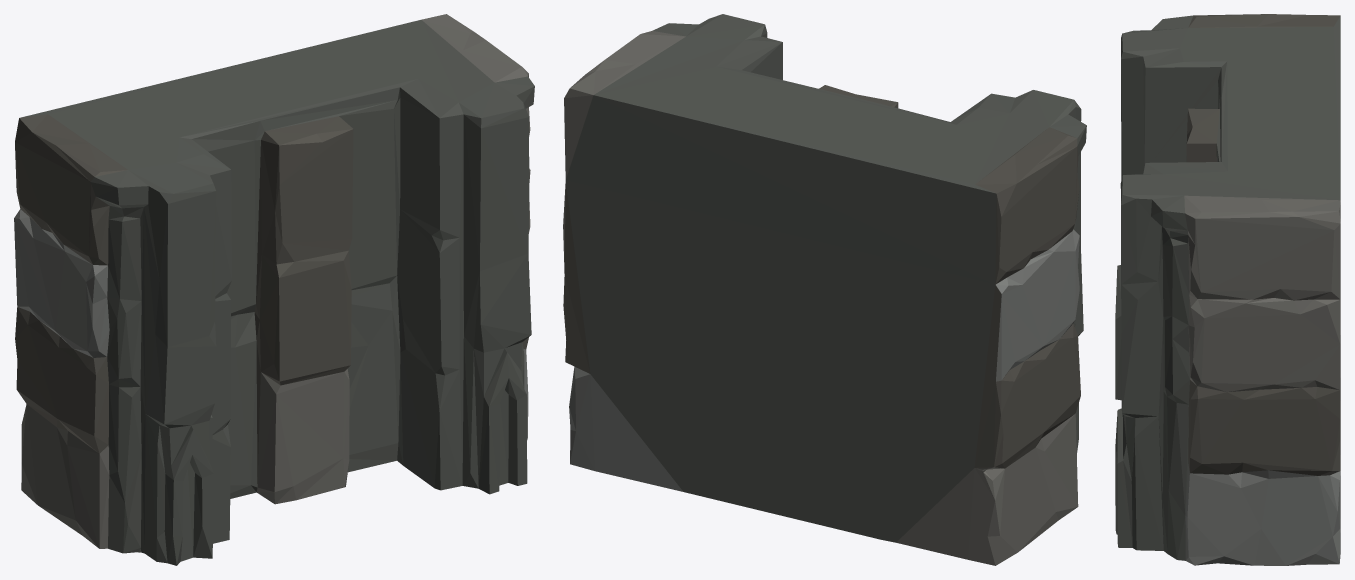
Rendered from MDungeon_GiantPillar_F2.FBX.
3 renders of one model, left to right at view 1: azimuth 30°, elevation 25°; view 2: azimuth 150°, elevation 25°; view 3: azimuth 270°, elevation 25°, orthographic. The views are drawn at different scales.
Visible parts, largest first — view 1: MDungeon_GiantPillar_F2_LOD0; view 2: MDungeon_GiantPillar_F2_LOD0; view 3: MDungeon_GiantPillar_F2_LOD0.
Boxes of the visible parts, x1=… form: MDungeon_GiantPillar_F2_LOD0: x1=14, y1=14, x2=534, y2=565; MDungeon_GiantPillar_F2_LOD0: x1=563, y1=14, x2=1086, y2=565; MDungeon_GiantPillar_F2_LOD0: x1=1115, y1=14, x2=1340, y2=565.
Size of what is drawn, in the model's own units: 5.3 by 4.34 by 2.5.
